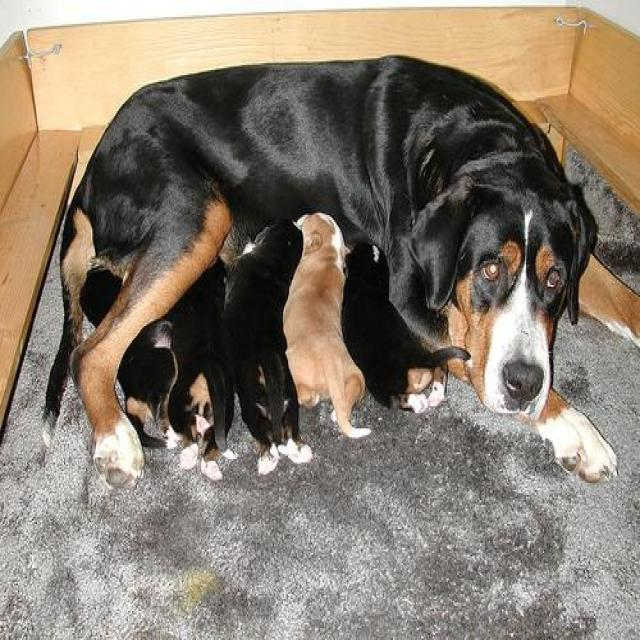adult_dog: (44, 53, 619, 491)
puppy-dog: (212, 221, 316, 478), (339, 242, 472, 414), (281, 213, 373, 439), (172, 289, 236, 483), (114, 319, 180, 449)
